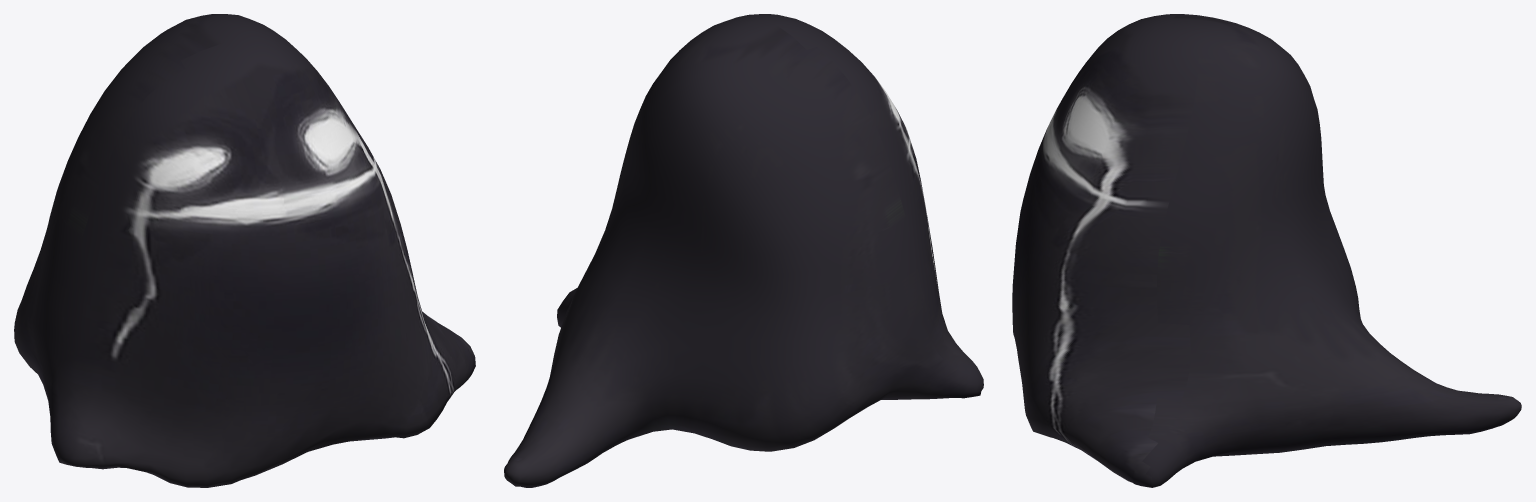
File: moster1_2 1.fbx
3 views of the same model, side by side, from view 1: azimuth 30°, elevation 25°; view 2: azimuth 150°, elevation 25°; view 3: azimuth 270°, elevation 25° (orthographic). The views are drawn at different scales.
Visible parts, largest first — view 1: Mesh_moster1_2; view 2: Mesh_moster1_2; view 3: Mesh_moster1_2.
Part boxes in pixels (<box>): Mesh_moster1_2: <box>14,14,475,487</box>; Mesh_moster1_2: <box>504,14,983,487</box>; Mesh_moster1_2: <box>1012,14,1521,487</box>.
Size of the model in its own units: 55.57 by 49.31 by 59.97.
Materials: 1 (1 with a texture image).
